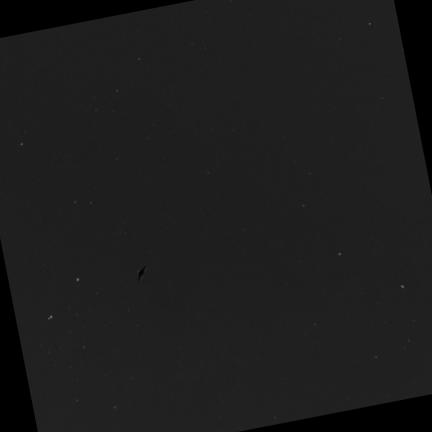Shahed: (139, 266, 147, 280)
